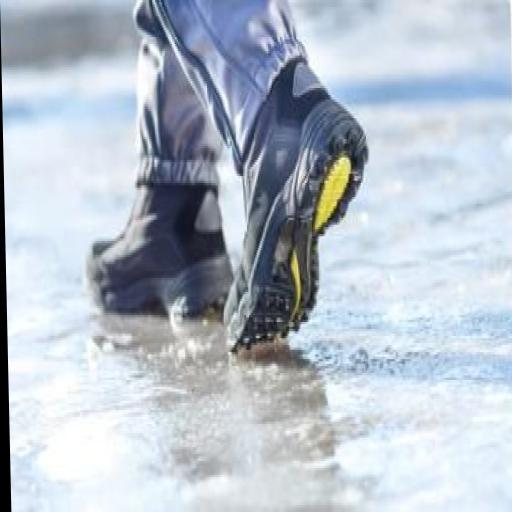safety_boots: (208, 94, 375, 378), (72, 200, 215, 319)
